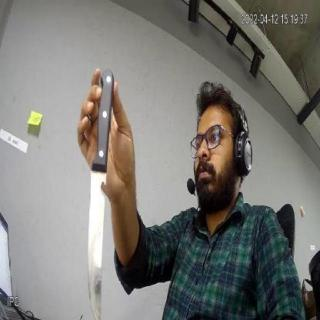knife: (83, 125, 108, 320)
